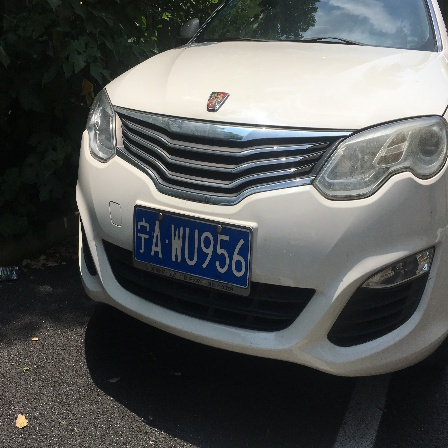plate: (130, 202, 257, 289)
